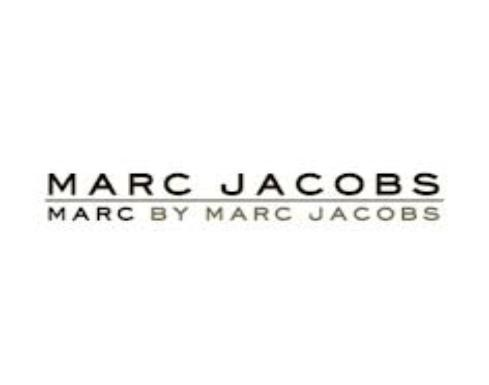MARC-JACOBS: (33, 199, 460, 231)
